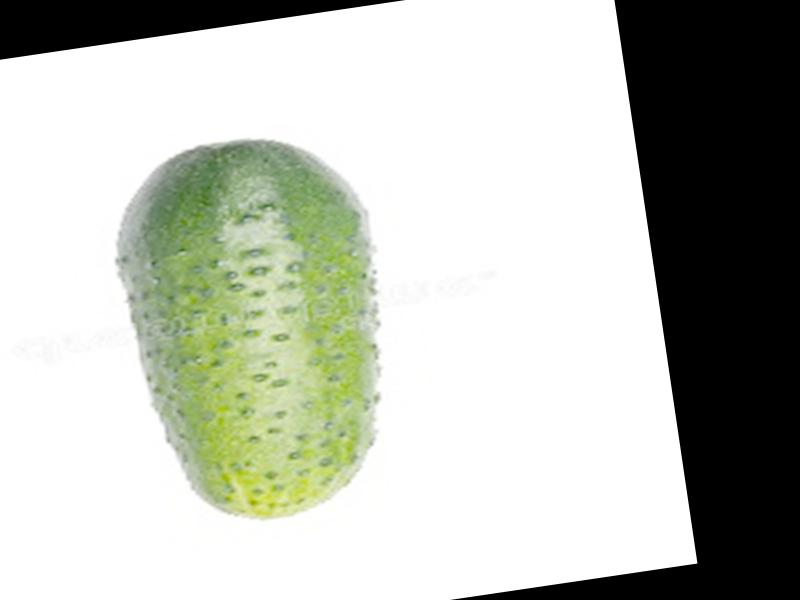Cucumber: (100, 121, 414, 538)
